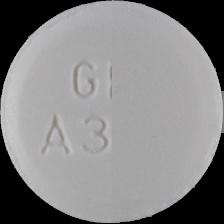67046-024: (0, 0, 224, 224)
